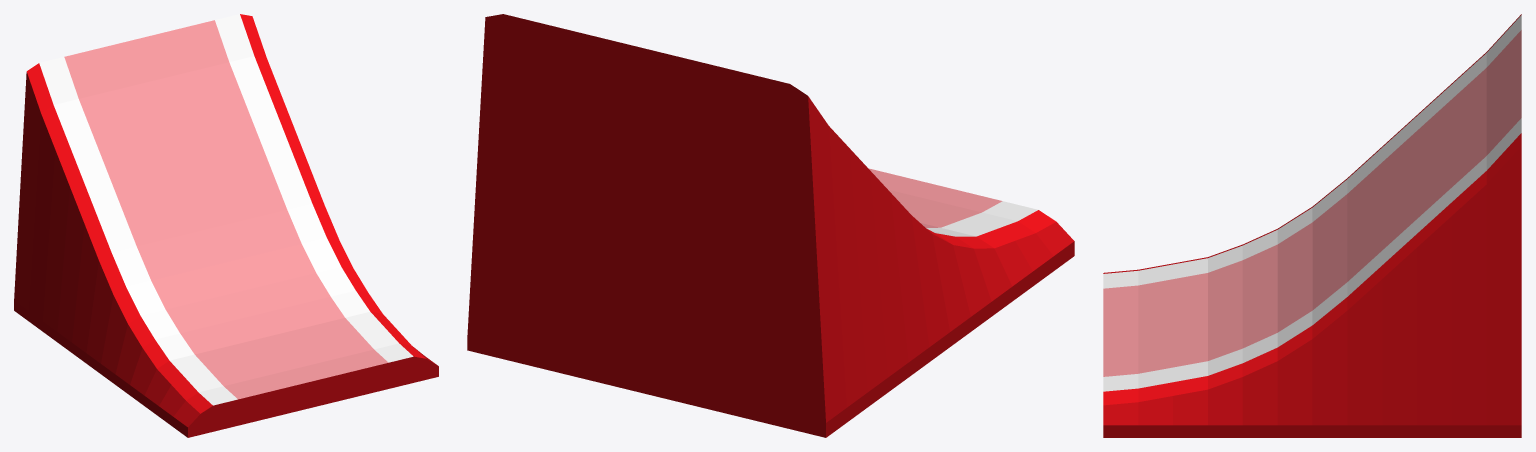
Rendered from ramp1.fbx.
3 views of the same model, side by side, from view 1: azimuth 30°, elevation 25°; view 2: azimuth 150°, elevation 25°; view 3: azimuth 270°, elevation 25° (orthographic). The views are drawn at different scales.
Visible parts, largest first — view 1: RampSmall; view 2: RampSmall; view 3: RampSmall.
Boxes of the visible parts, bbox=[...] form: RampSmall: bbox=[14, 14, 438, 437]; RampSmall: bbox=[467, 14, 1074, 437]; RampSmall: bbox=[1103, 14, 1521, 437].
Size of the model in its own units: 10 by 9.2 by 12.
